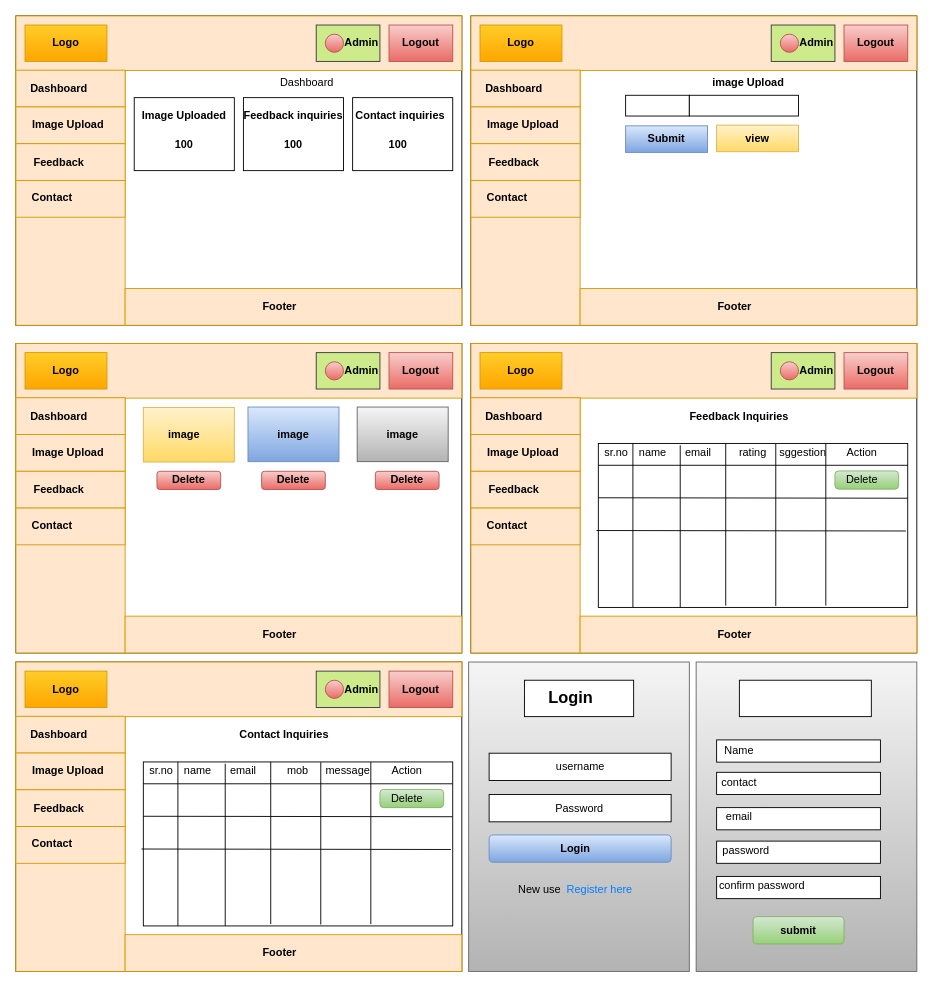
This 933x987 diagram has some shape labels left out. The shapes that lost their labels are listed below. From the top down, each one's centre as x and y in pixels, then its label:
At point 657,105: "Choose file".
At point 804,698: "Registration".
